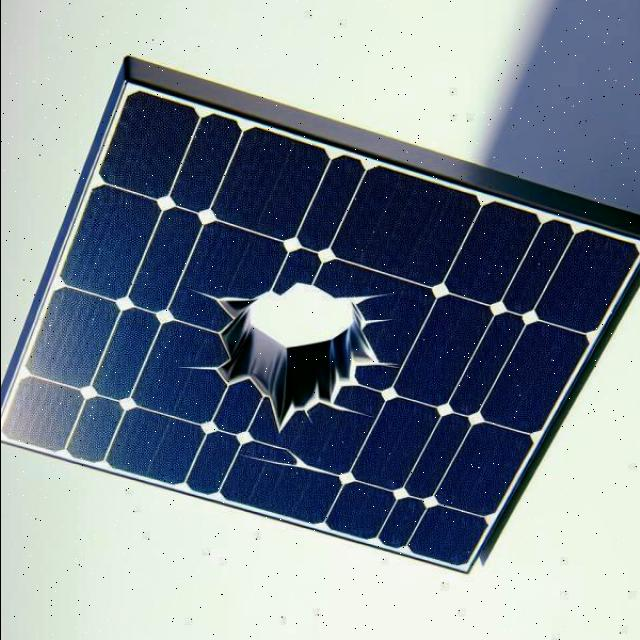Anomaly Solar Panel: (0, 76, 640, 591)
Structural Damage: (205, 269, 395, 432)
